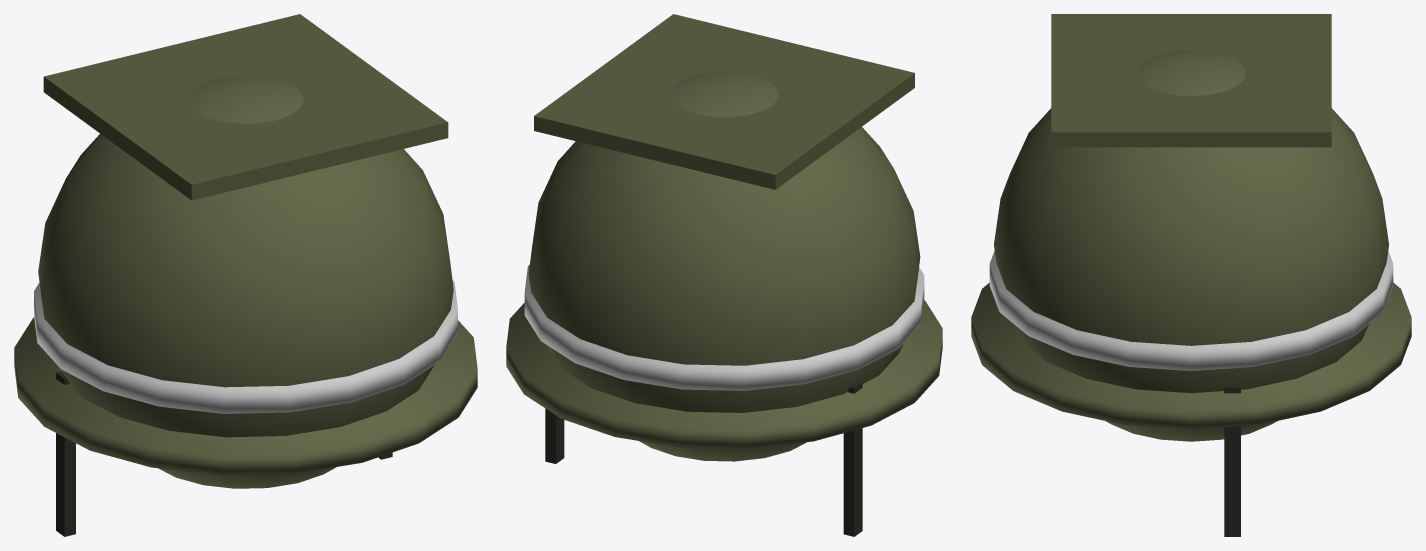
File: Helmet_Red.fbx
3 renders of one model, left to right at view 1: azimuth 30°, elevation 25°; view 2: azimuth 150°, elevation 25°; view 3: azimuth 270°, elevation 25°, orthographic. The views are drawn at different scales.
Visible parts, largest first — view 1: Shell, Scrim, Brim, TeamBand, ChinStrapL; view 2: Shell, Scrim, Brim, TeamBand, ChinStrapL, ChinStrapR; view 3: Shell, Scrim, Brim, TeamBand, ChinStrapR.
Part boxes in pixels (left/top/right/bottom): Shell: left=38, top=75, right=453, bottom=488; Scrim: left=43, top=14, right=448, bottom=200; Brim: left=14, top=317, right=477, bottom=475; TeamBand: left=34, top=280, right=457, bottom=413; ChinStrapL: left=56, top=371, right=75, bottom=536; Shell: left=528, top=71, right=920, bottom=461; Scrim: left=534, top=14, right=914, bottom=189; Brim: left=506, top=300, right=942, bottom=448; TeamBand: left=524, top=264, right=924, bottom=390; ChinStrapL: left=843, top=381, right=862, bottom=536; ChinStrapR: left=545, top=408, right=564, bottom=463; Shell: left=994, top=50, right=1388, bottom=441; Scrim: left=1051, top=14, right=1331, bottom=147; Brim: left=971, top=283, right=1411, bottom=429; TeamBand: left=989, top=251, right=1393, bottom=370; ChinStrapR: left=1224, top=385, right=1240, bottom=536.
Bounding box in the file's own units: 53.5 × 53.5 × 53.
